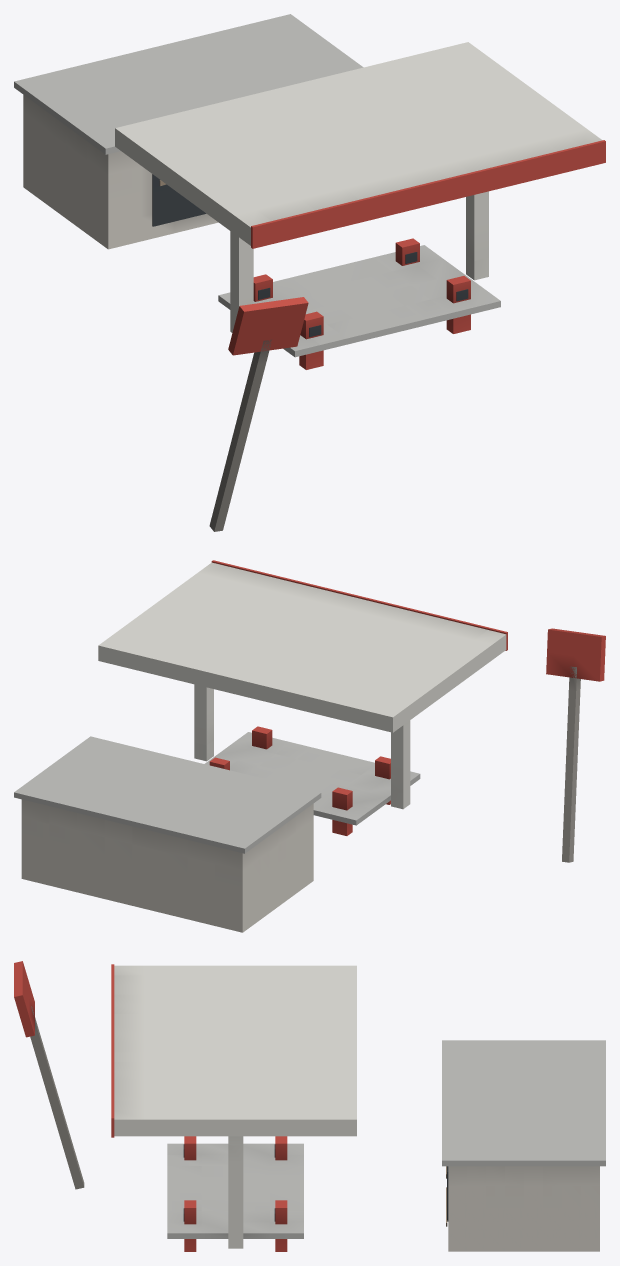
Rendered from posto.glb.
3 renders of one model, top to bottom at view 1: azimuth 30°, elevation 25°; view 2: azimuth 150°, elevation 25°; view 3: azimuth 270°, elevation 25°, orthographic. The views are drawn at different scales.
Visible parts, largest first — view 1: posto_cobertura, posto_loja, posto_ilha, posto_luminoso, posto_pilar4, posto_pilar-4, posto_bomba2-1, posto_bomba-2-1; view 2: posto_loja, posto_cobertura, posto_ilha, posto_luminoso, posto_pilar-4, posto_pilar4, posto_bomba-21; view 3: posto_cobertura, posto_loja, posto_ilha, posto_luminoso, posto_pilar4, posto_bomba2-1, posto_bomba21.
Boxes of the visible parts, left/top/right/bottom form: posto_cobertura: left=115, top=42, right=605, bottom=248; posto_loja: left=14, top=14, right=363, bottom=249; posto_ilha: left=218, top=245, right=500, bottom=357; posto_luminoso: left=209, top=297, right=308, bottom=531; posto_pilar4: left=466, top=191, right=488, bottom=280; posto_pilar-4: left=230, top=231, right=253, bottom=332; posto_bomba2-1: left=446, top=276, right=470, bottom=333; posto_bomba-2-1: left=299, top=311, right=323, bottom=369; posto_loja: left=14, top=736, right=321, bottom=932; posto_cobertura: left=98, top=560, right=507, bottom=732; posto_ilha: left=205, top=732, right=420, bottom=825; posto_luminoso: left=546, top=628, right=605, bottom=862; posto_pilar-4: left=391, top=720, right=410, bottom=809; posto_pilar4: left=194, top=684, right=213, bottom=761; posto_bomba-21: left=332, top=787, right=352, bottom=835; posto_cobertura: left=111, top=964, right=356, bottom=1137; posto_loja: left=442, top=1040, right=605, bottom=1251; posto_ilha: left=167, top=1143, right=303, bottom=1238; posto_luminoso: left=14, top=961, right=84, bottom=1189; posto_pilar4: left=228, top=1136, right=243, bottom=1248; posto_bomba2-1: left=183, top=1200, right=196, bottom=1251; posto_bomba21: left=274, top=1200, right=287, bottom=1251.
Size of what is drawn, in the model's own units: 14.3 by 8.98 by 19.51.
